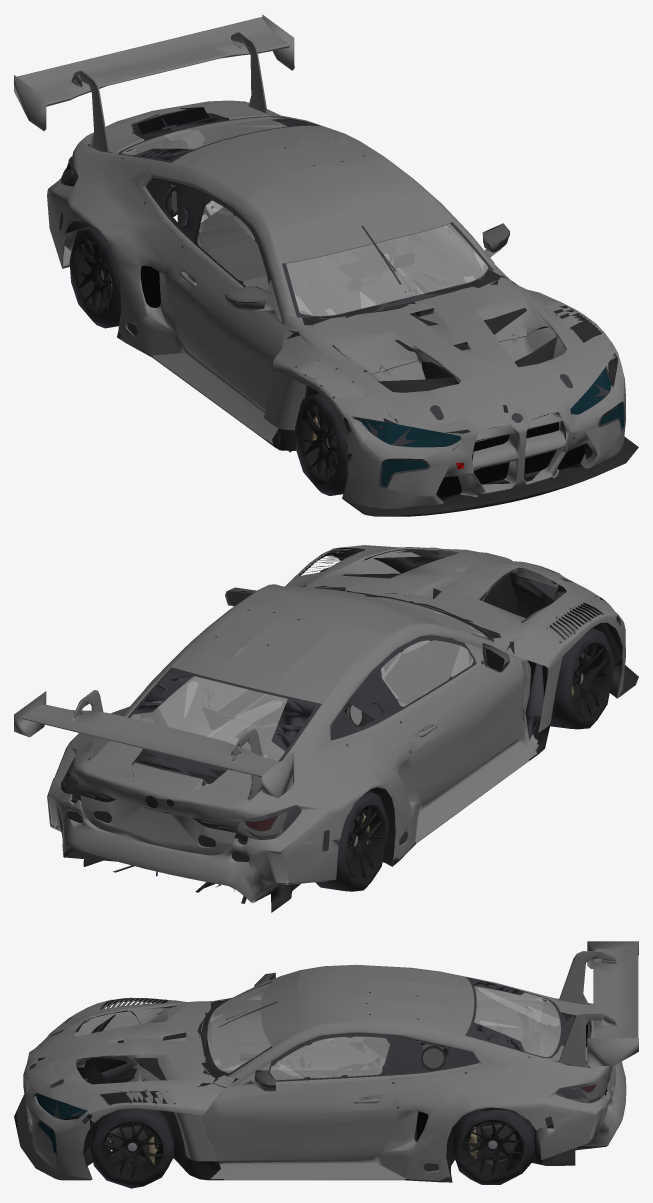
File: bmw_m4_gt3.obj
The picture shows the model from 3 angles, top to bottom: view 1: azimuth 30°, elevation 25°; view 2: azimuth 150°, elevation 25°; view 3: azimuth 270°, elevation 25°; orthographic projection. The views are drawn at different scales.
Parts seen in each view (by area): view 1: BODY, GLASS, WHEEL_RF, WHEEL_RR; view 2: BODY, GLASS, WHEEL_RF, WHEEL_RR; view 3: BODY, GLASS, WHEEL_LF, WHEEL_LR.
Part boxes in pixels (box(x1,y1,x2,y2)): BODY: box(14, 14, 638, 516); GLASS: box(121, 116, 509, 316); WHEEL_RF: box(295, 393, 348, 495); WHEEL_RR: box(69, 226, 121, 328); BODY: box(14, 545, 638, 912); GLASS: box(130, 593, 509, 760); WHEEL_RF: box(550, 623, 615, 729); WHEEL_RR: box(315, 791, 389, 891); BODY: box(14, 941, 638, 1182); GLASS: box(207, 982, 560, 1086); WHEEL_LF: box(90, 1108, 174, 1188); WHEEL_LR: box(451, 1109, 534, 1184).
Bounding box in the file's own units: 1.64 × 1.08 × 3.93.
